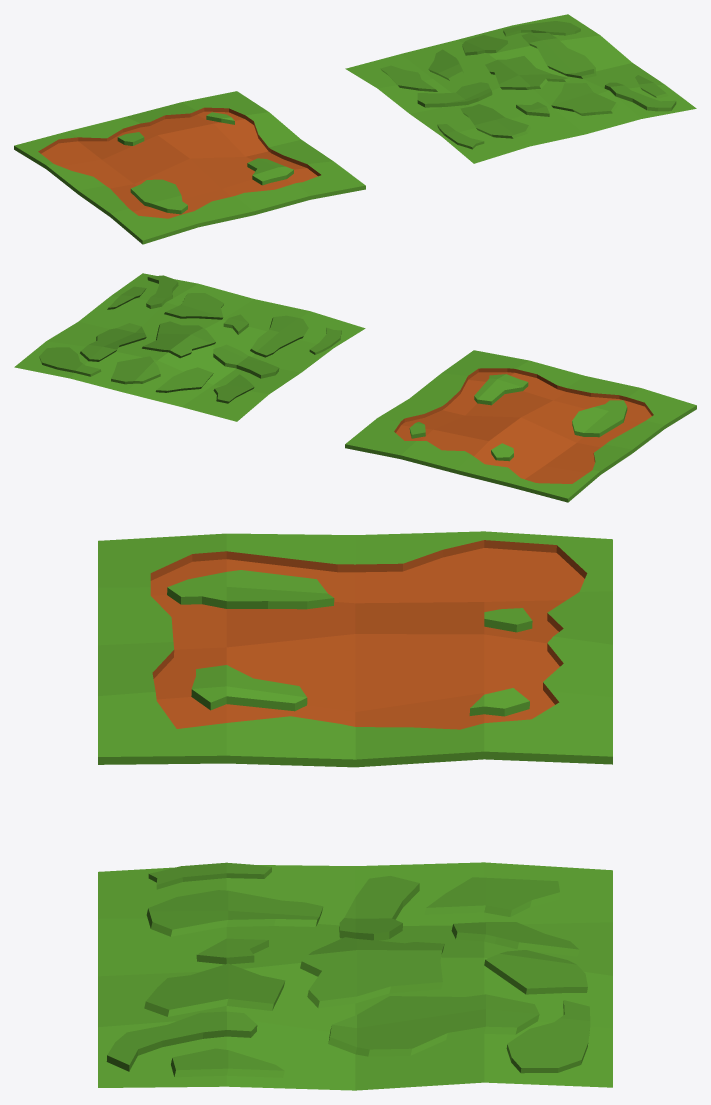
File: cimen_ve_toprak.fbx
The picture shows the model from 3 angles, top to bottom: view 1: azimuth 30°, elevation 25°; view 2: azimuth 150°, elevation 25°; view 3: azimuth 270°, elevation 25°; orthographic projection. The views are drawn at different scales.
Visible parts, largest first — view 1: Plane.001, Plane; view 2: Plane.001, Plane; view 3: Plane.001, Plane.
Part boxes in pixels (x1,y1,x2,y2): Plane.001: (14,91,365,244); Plane: (345,14,696,163); Plane.001: (345,350,696,502); Plane: (14,273,365,421); Plane.001: (98,531,612,767); Plane: (98,862,612,1090).
Size of the model in its own units: 497 by 12.89 by 200.
